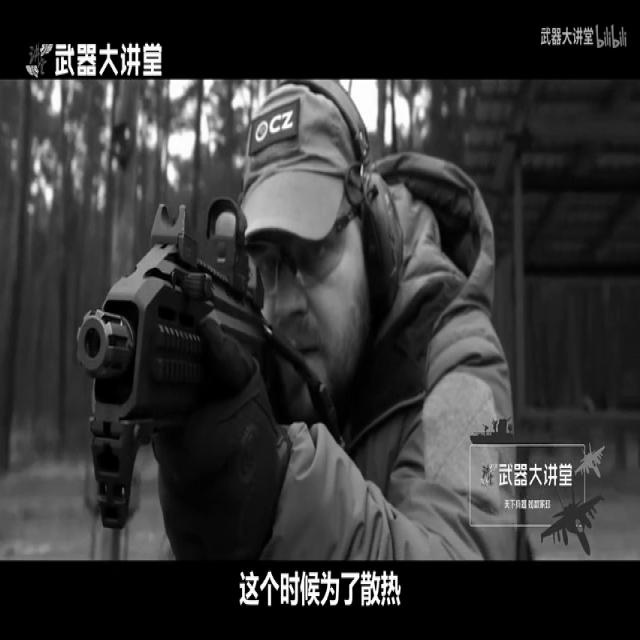Sniper: (33, 153, 358, 640)
